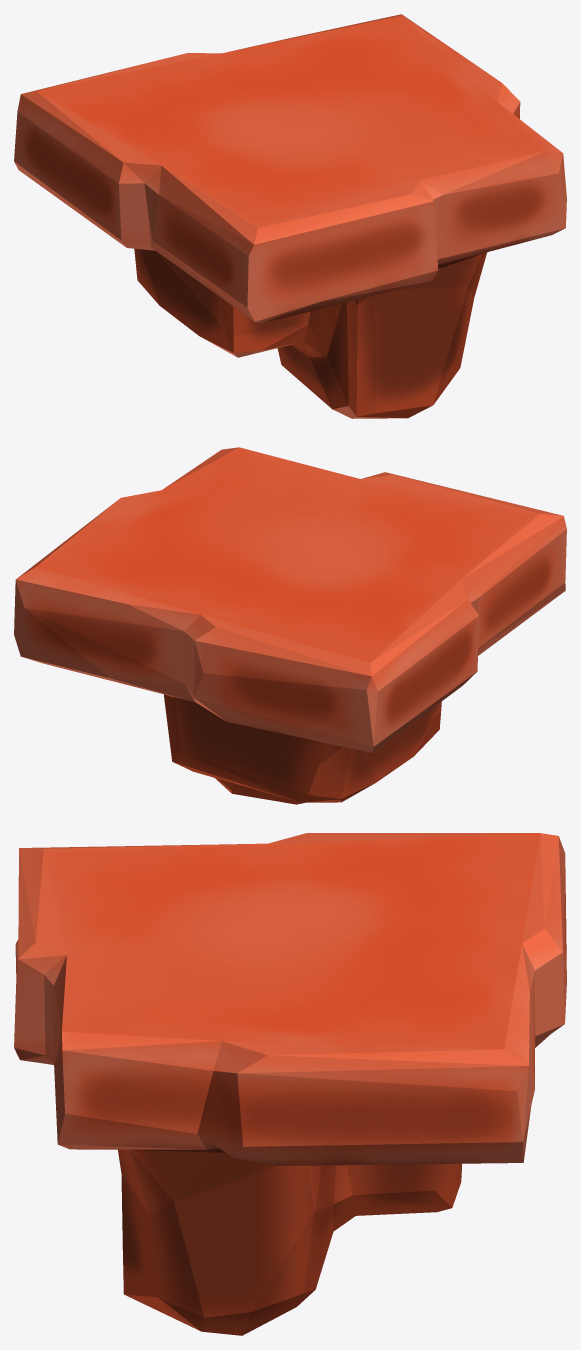
The model's file is Platform_2_2.fbx.
The picture shows the model from 3 angles, top to bottom: view 1: azimuth 30°, elevation 25°; view 2: azimuth 150°, elevation 25°; view 3: azimuth 270°, elevation 25°; orthographic projection. The views are drawn at different scales.
Parts seen in each view (by area): view 1: Cube.036; view 2: Cube.036; view 3: Cube.036.
Part boxes in pixels (x1,y1,x2,y2): Cube.036: (14, 14, 566, 418); Cube.036: (14, 447, 566, 804); Cube.036: (14, 833, 566, 1335).
Size of the model in its own units: 199 by 131 by 199.
